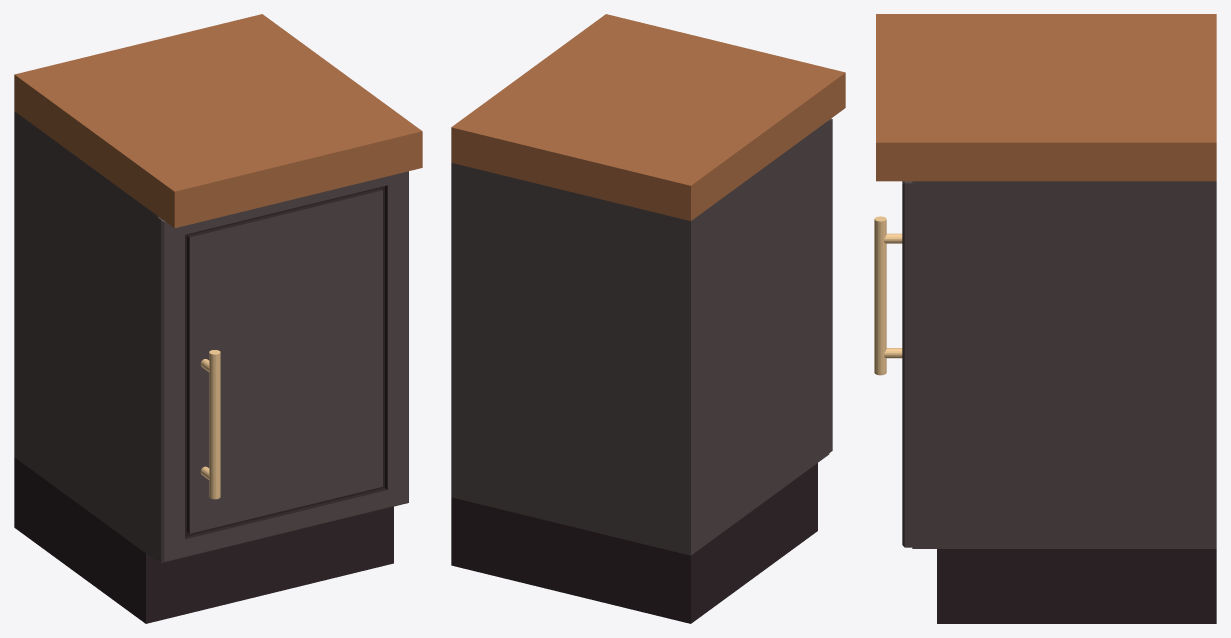
The model's file is Prop_KitchenCabinet_02_G.fbx.
3 views of the same model, side by side, from view 1: azimuth 30°, elevation 25°; view 2: azimuth 150°, elevation 25°; view 3: azimuth 270°, elevation 25° (orthographic). The views are drawn at different scales.
Parts seen in each view (by area): view 1: Prop_KitchenCabinet_02_G; view 2: Prop_KitchenCabinet_02_G; view 3: Prop_KitchenCabinet_02_G.
Part boxes in pixels (box(x1,y1,x2,y2)): Prop_KitchenCabinet_02_G: box(14, 14, 422, 623); Prop_KitchenCabinet_02_G: box(451, 14, 845, 623); Prop_KitchenCabinet_02_G: box(874, 14, 1216, 623).
Bounding box in the file's own units: 60 × 105 × 67.48.
